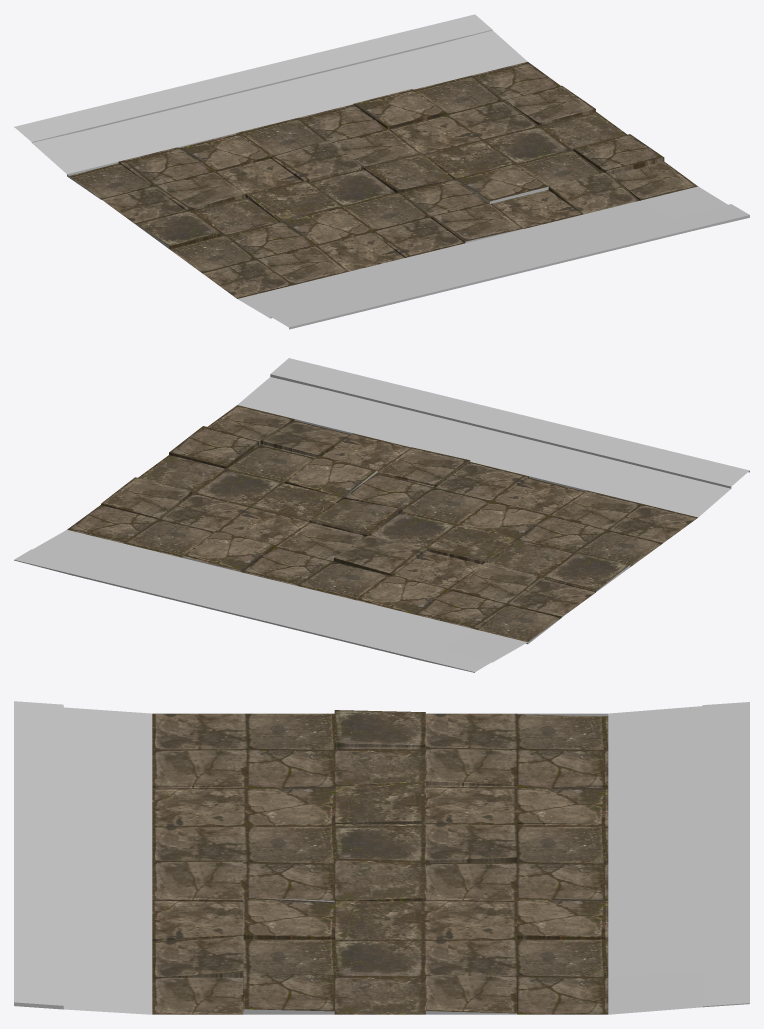
Rendered from WoodenFloorHighPoly.fbx.
3 renders of one model, top to bottom at view 1: azimuth 30°, elevation 25°; view 2: azimuth 150°, elevation 25°; view 3: azimuth 270°, elevation 25°, orthographic. The views are drawn at different scales.
Visible parts, largest first — view 1: Floor.001; view 2: Floor.001; view 3: Floor.001.
Part boxes in pixels (bbox=[...]): Floor.001: bbox=[14, 14, 749, 329]; Floor.001: bbox=[14, 358, 749, 672]; Floor.001: bbox=[14, 701, 749, 1014].
Bounding box in the file's own units: 54.77 × 1.29 × 56.56.
